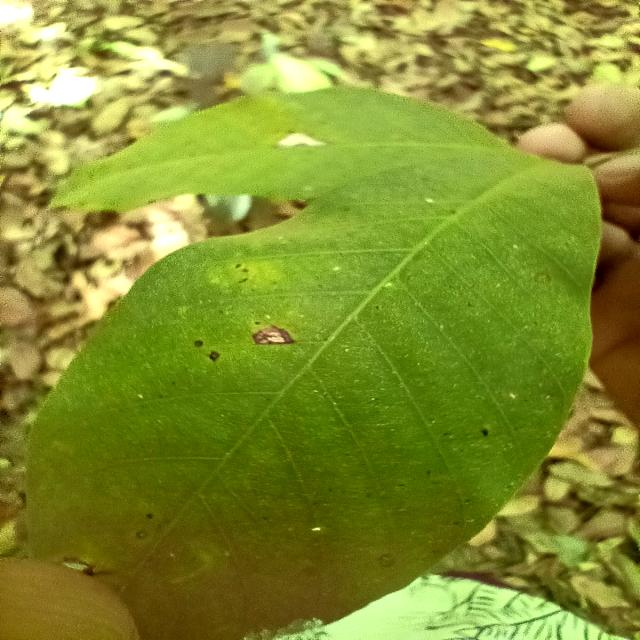Colletotrichum: (209, 350, 220, 362), (193, 340, 204, 347), (481, 428, 490, 436)
